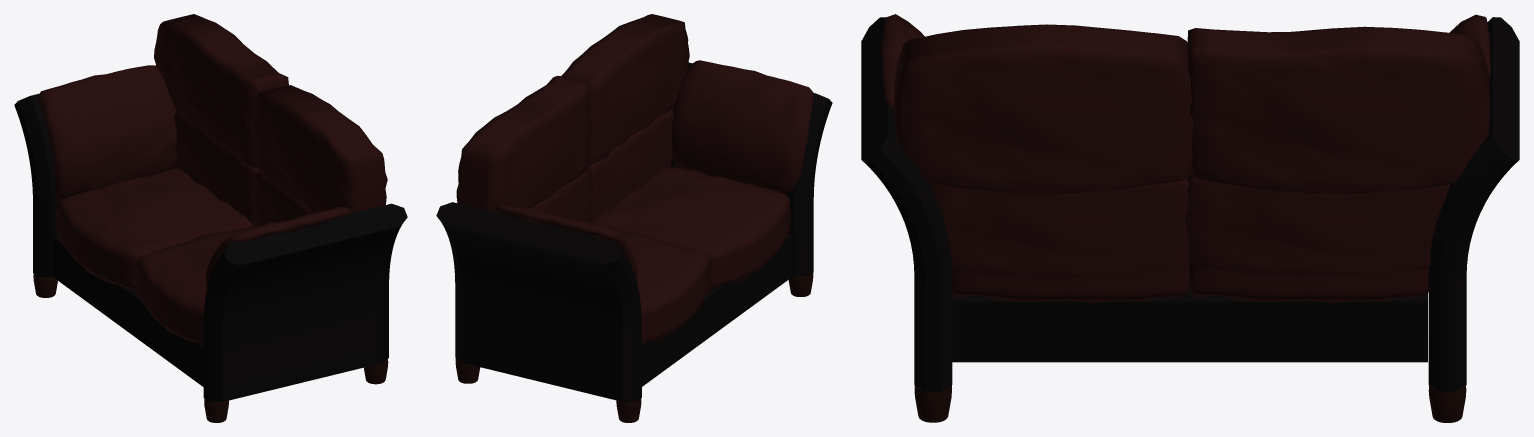
The model's file is Soffa.FBX.
3 views of the same model, side by side, from view 1: azimuth 30°, elevation 25°; view 2: azimuth 150°, elevation 25°; view 3: azimuth 270°, elevation 25° (orthographic). The views are drawn at different scales.
Parts seen in each view (by area): view 1: Box014, ChamferBox013, ChamferBox002, ChamferBox011, ChamferBox012, ChamferBox001, ChamferBox006, ChamferBox005, ChamferBox009, Cylinder005; view 2: Box014, ChamferBox009, ChamferBox001, ChamferBox012, ChamferBox011, ChamferBox002, ChamferBox005, ChamferBox013, ChamferBox006, Cylinder005; view 3: Box014, ChamferBox012, ChamferBox011, ChamferBox006, ChamferBox005, ChamferBox002, ChamferBox001, Cylinder005, ChamferBox009, ChamferBox013.
Part boxes in pixels (x1,y1,x2,y2): Box014: (14,65,407,401); ChamferBox013: (37,65,177,199); ChamferBox002: (56,167,253,290); ChamferBox011: (250,85,387,213); ChamferBox012: (154,14,288,167); ChamferBox001: (136,225,258,344); ChamferBox006: (174,113,259,225); ChamferBox005: (250,172,312,226); ChamferBox009: (205,206,351,288); Cylinder005: (33,274,388,422); Box014: (436,62,832,401); ChamferBox009: (671,60,813,193); ChamferBox001: (591,166,790,290); ChamferBox012: (456,75,592,212); ChamferBox011: (561,14,689,166); ChamferBox002: (609,228,710,343); ChamferBox005: (588,108,673,221); ChamferBox013: (494,203,637,283); ChamferBox006: (533,169,593,222); Cylinder005: (455,273,813,422); Box014: (861,17,1519,391); ChamferBox012: (1187,26,1490,193); ChamferBox011: (894,24,1193,193); ChamferBox006: (1184,175,1450,277); ChamferBox005: (929,178,1189,278); ChamferBox002: (1189,264,1428,302); ChamferBox001: (952,266,1189,302); Cylinder005: (914,385,1466,422); ChamferBox009: (881,14,924,109); ChamferBox013: (1449,14,1491,78).
Size of the model in its own units: 1479 by 1913 by 3105.
